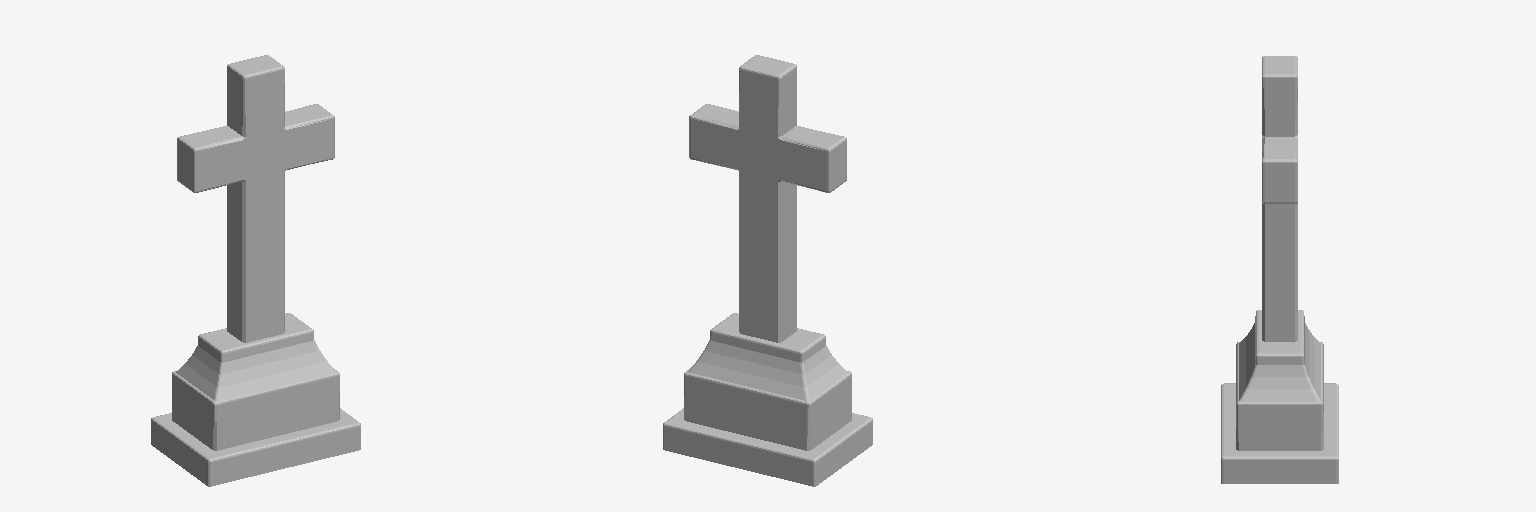
Rendered from tombe.obj.
The picture shows the model from 3 angles: view 1: azimuth 30°, elevation 25°; view 2: azimuth 150°, elevation 25°; view 3: azimuth 270°, elevation 25°; orthographic projection.
Visible parts, largest first — view 1: Box01; view 2: Box01; view 3: Box01.
Part boxes in pixels (x1,y1,x2,y2): Box01: (151,55,360,486); Box01: (663,55,872,486); Box01: (1221,56,1338,483).
Size of the model in its own units: 17.96 by 42.67 by 11.97.